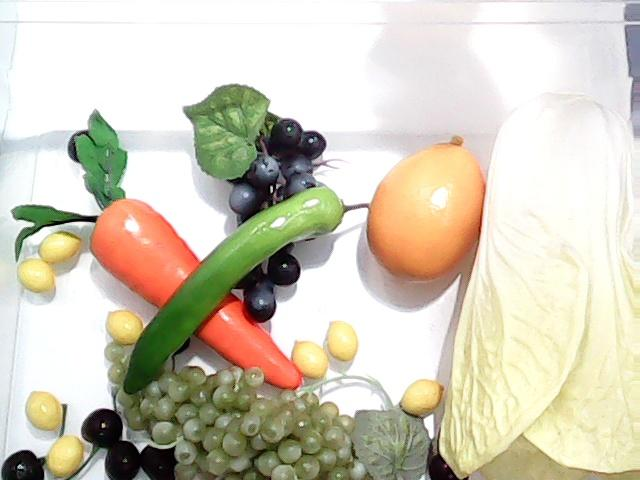carrot: (11, 109, 305, 388)
grape: (182, 82, 332, 318), (128, 372, 372, 480)
lemon: (365, 132, 487, 284)
napa cabbage: (436, 82, 640, 480)
pepper: (103, 185, 341, 391)
